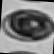correct: (0, 5, 54, 45)
